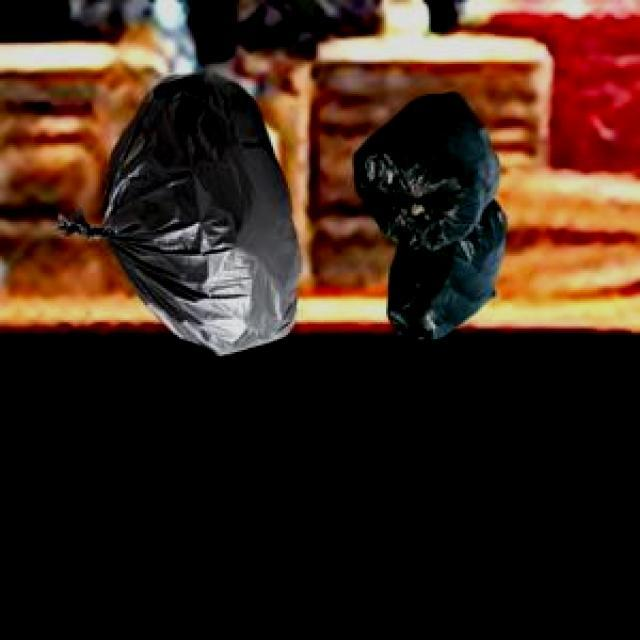Trashbag: (53, 73, 299, 358), (354, 90, 502, 247), (382, 195, 508, 348)
